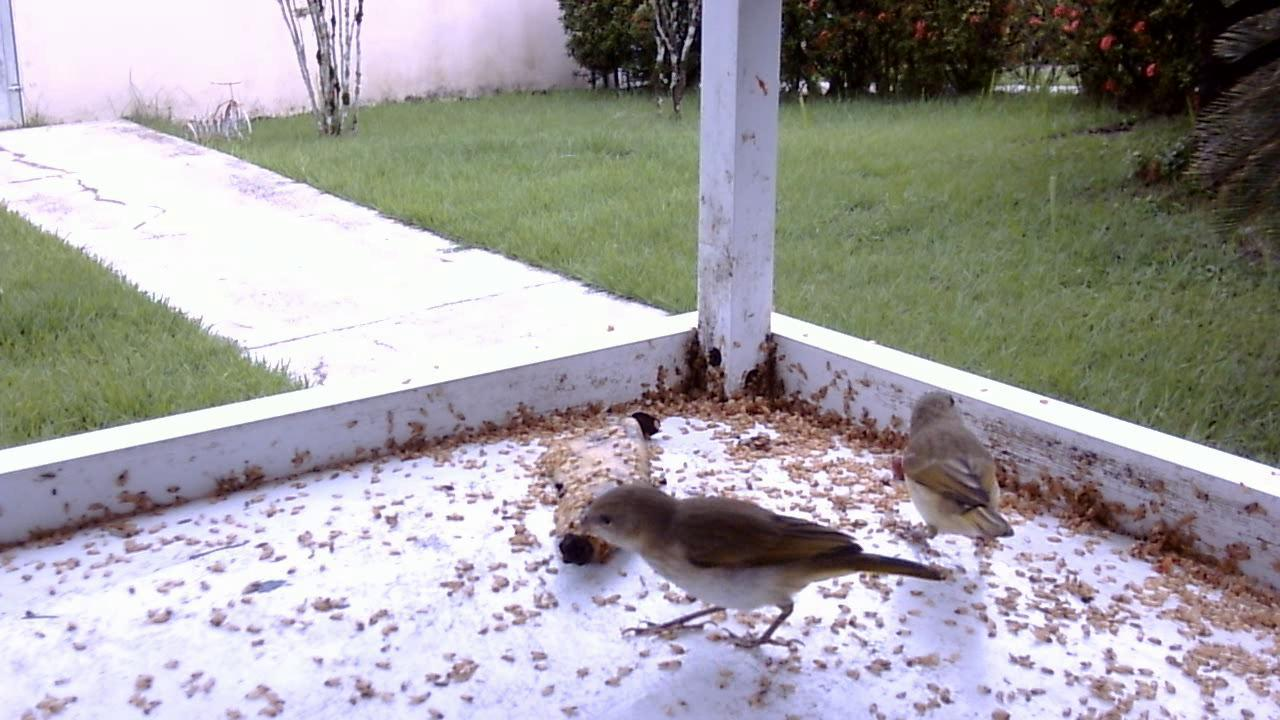canario_do_amazonas: (565, 478, 953, 664), (881, 390, 1021, 551)
